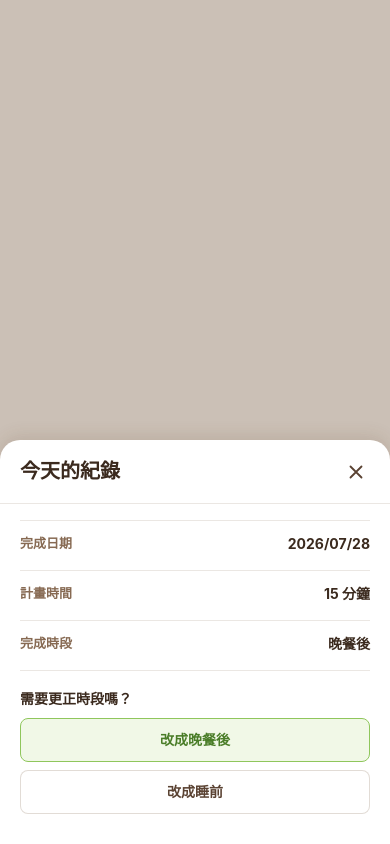
Test: LongTermGoalDetailSheets › keeps the confirmed record and announces an error when correction fails
Click the button "改成睡前" at [195, 792], box [20, 770, 370, 814]
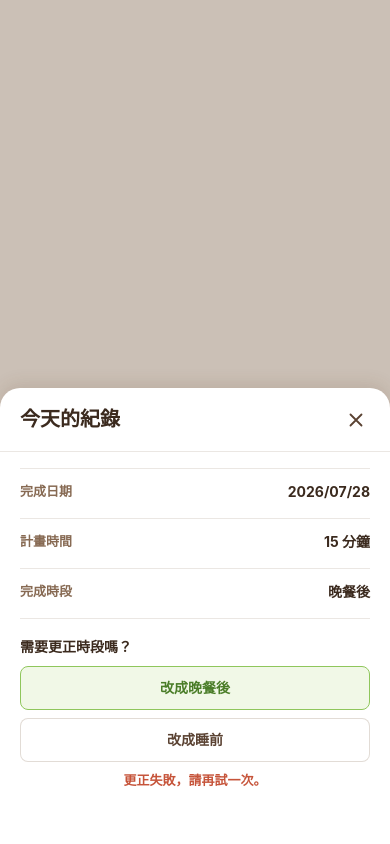
Expected: the text "晚餐後" is shown, [328, 583, 370, 600]
Now the message reads "更正失敗，請再試一次。", box [124, 772, 266, 788]
